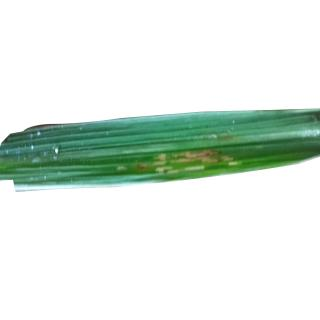Hawar-Daun: (187, 139, 236, 171), (134, 152, 152, 180)
